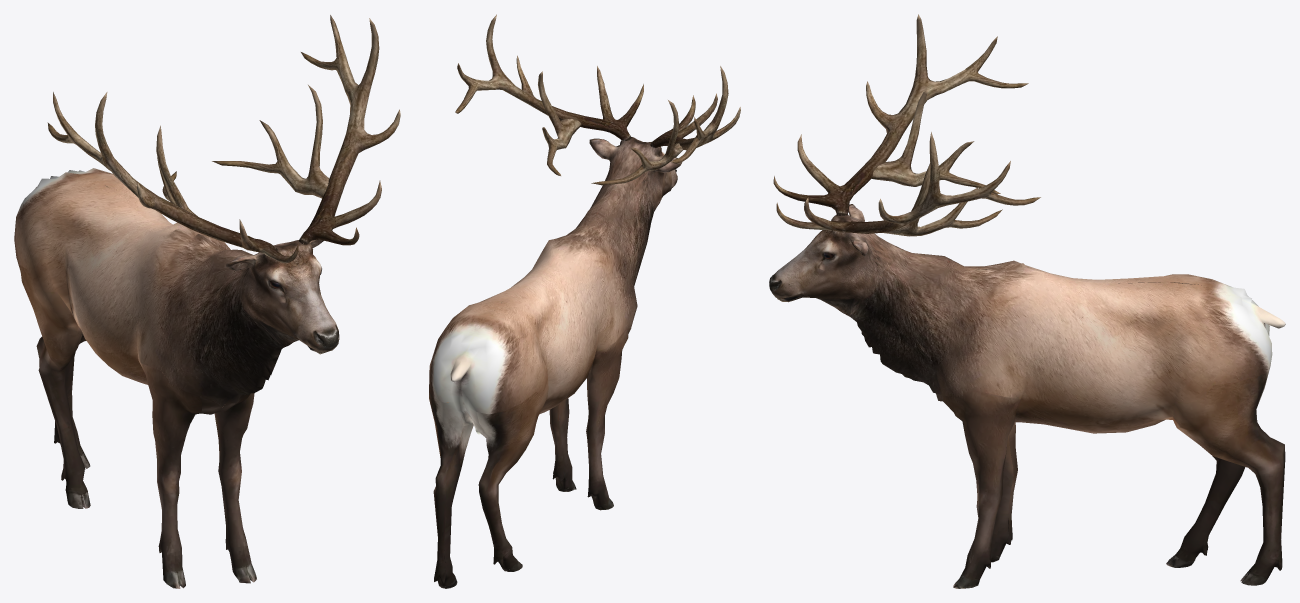
File: reindeer.glb
The picture shows the model from 3 angles, left to right: view 1: azimuth 30°, elevation 25°; view 2: azimuth 150°, elevation 25°; view 3: azimuth 270°, elevation 25°; orthographic projection. The views are drawn at different scales.
Parts seen in each view (by area): view 1: Object_10, Chifre_Chifre_0, Object_8; view 2: Object_10, Chifre_Chifre_0, Object_8; view 3: Object_10, Chifre_Chifre_0, Object_8.
Part boxes in pixels (x1,y1,x2,y2): Object_10: (14, 168, 282, 588); Chifre_Chifre_0: (47, 15, 400, 263); Object_8: (226, 230, 339, 354); Object_10: (429, 184, 654, 588); Chifre_Chifre_0: (455, 14, 740, 185); Object_8: (589, 137, 682, 210); Object_10: (851, 246, 1285, 588); Chifre_Chifre_0: (773, 14, 1040, 236); Object_8: (769, 204, 897, 317).
Bounding box in the file's own units: 0.0201 × 0.036 × 0.0336.
Materials: 4 (4 with a texture image).
